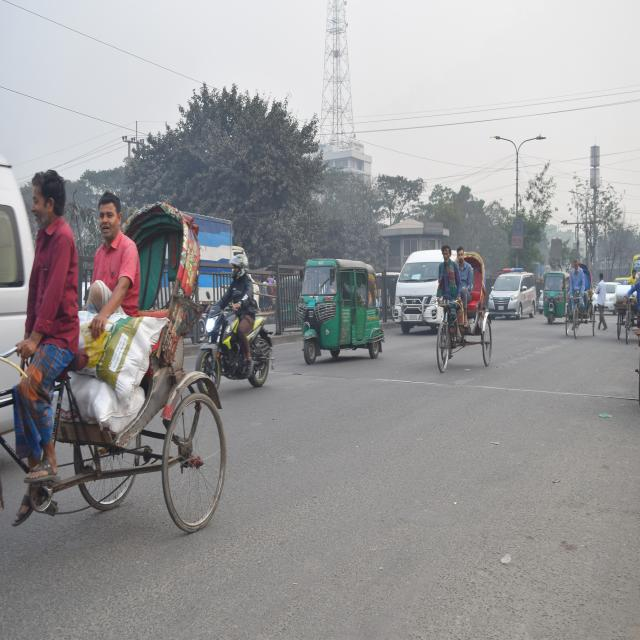car: (593, 267, 619, 326)
microbus: (393, 242, 462, 352), (484, 255, 542, 333)
motorbike: (189, 288, 288, 406)
